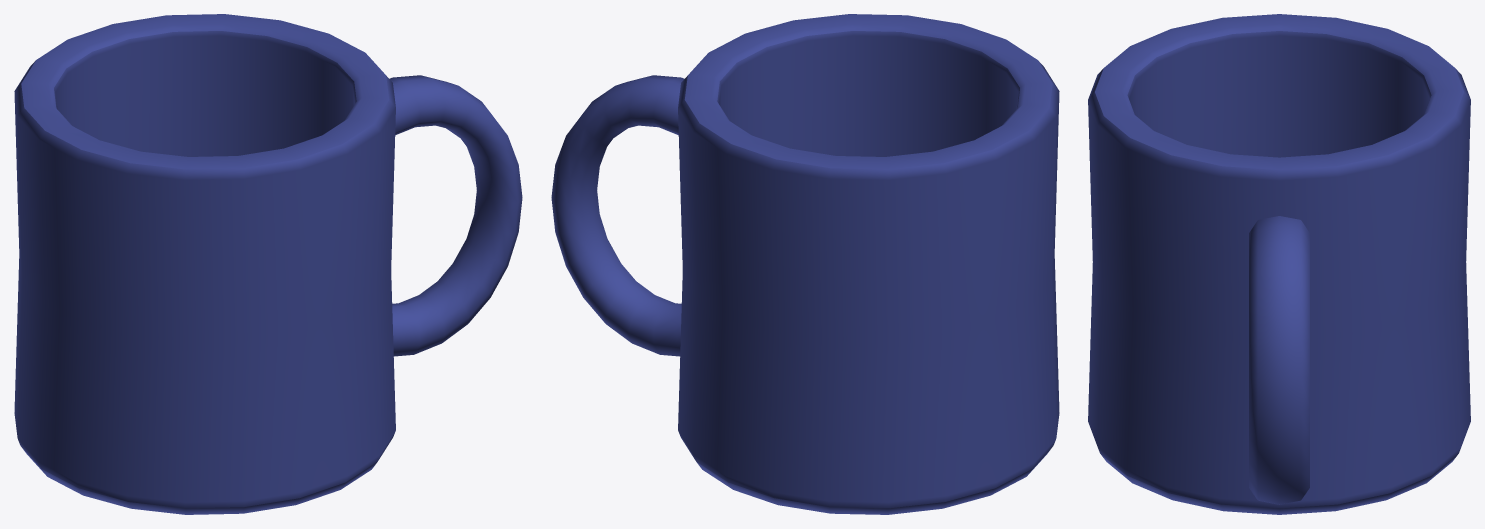
File: Mug1.fbx
The picture shows the model from 3 angles, left to right: view 1: azimuth 30°, elevation 25°; view 2: azimuth 150°, elevation 25°; view 3: azimuth 270°, elevation 25°; orthographic projection.
Visible parts, largest first — view 1: Mug1; view 2: Mug1; view 3: Mug1.
Part boxes in pixels (left/top/right/bottom): Mug1: left=14, top=14, right=522, bottom=514; Mug1: left=551, top=14, right=1059, bottom=514; Mug1: left=1088, top=14, right=1470, bottom=514.
Bounding box in the file's own units: 23.12 × 16.15 × 16.15.
